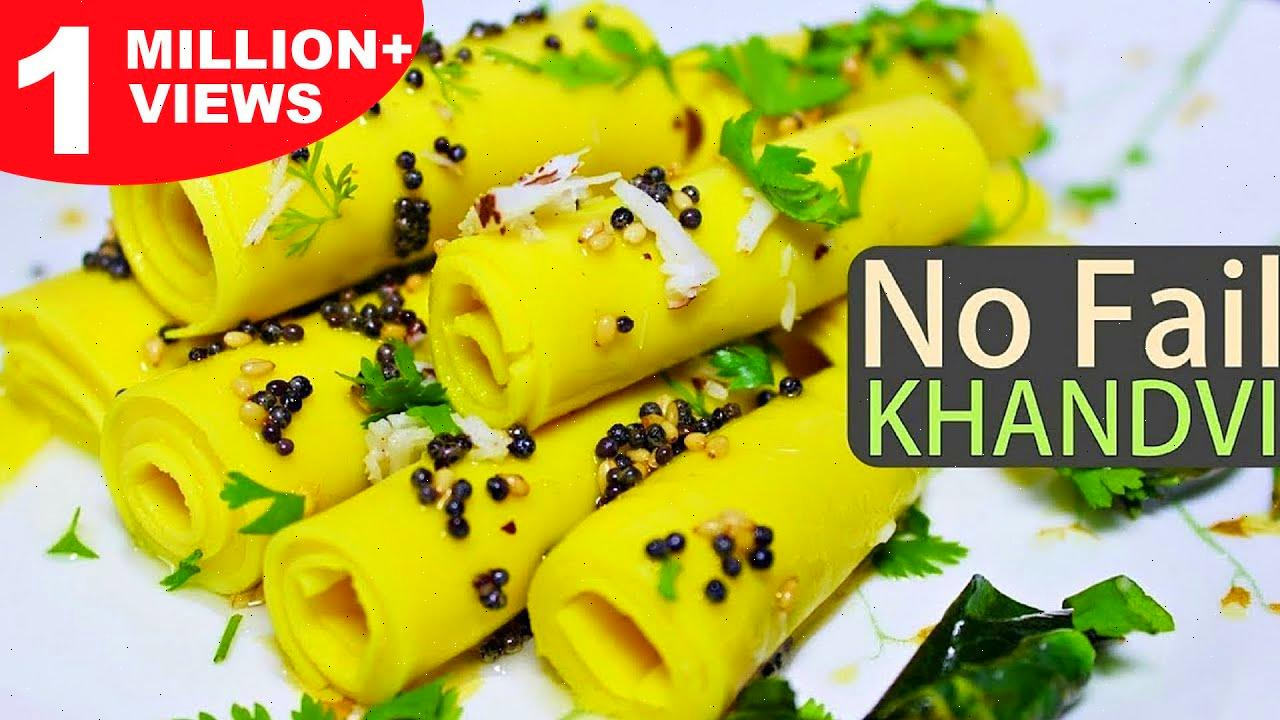khandvi: (78, 208, 848, 708)
